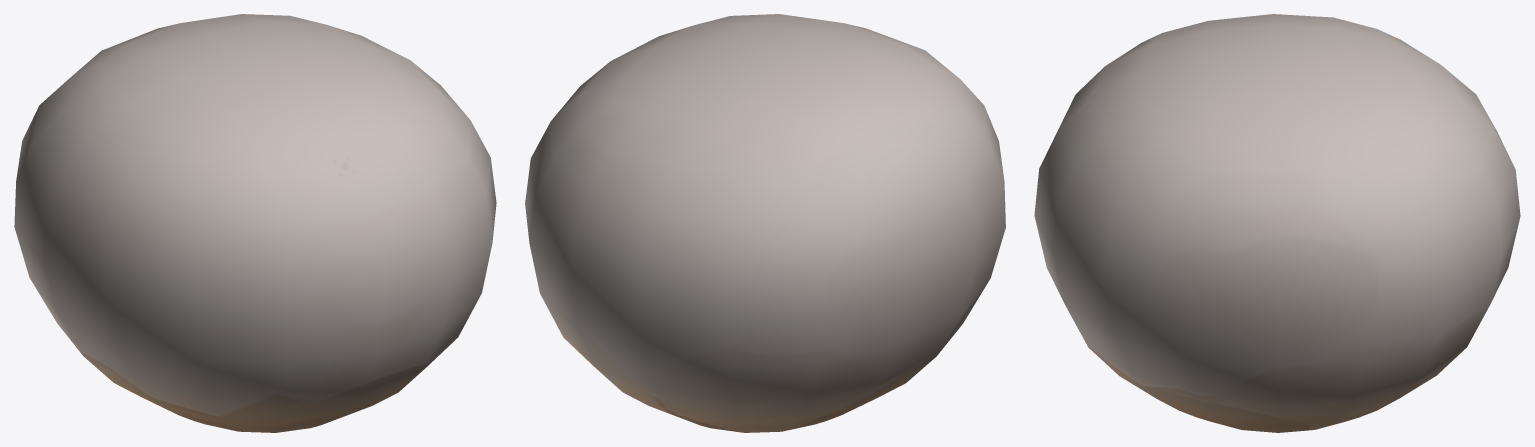
File: PuffBall_005.fbx
3 renders of one model, left to right at view 1: azimuth 30°, elevation 25°; view 2: azimuth 150°, elevation 25°; view 3: azimuth 270°, elevation 25°, orthographic. The views are drawn at different scales.
Parts seen in each view (by area): view 1: BuffBall_05_LOD0; view 2: BuffBall_05_LOD0; view 3: BuffBall_05_LOD0.
Boxes of the visible parts, box(x1,y1,x2,y2) form: BuffBall_05_LOD0: box(14, 14, 496, 432); BuffBall_05_LOD0: box(525, 14, 1005, 432); BuffBall_05_LOD0: box(1034, 14, 1520, 432).
Size of what is drawn, in the model's own units: 12.1 by 9.44 by 12.42.
